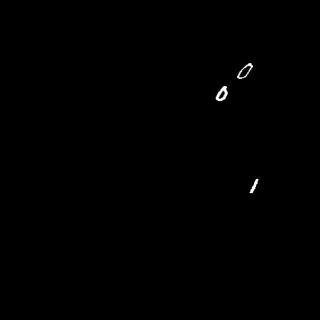one: (249, 177, 259, 197)
zero: (236, 60, 254, 81), (217, 86, 231, 100)
